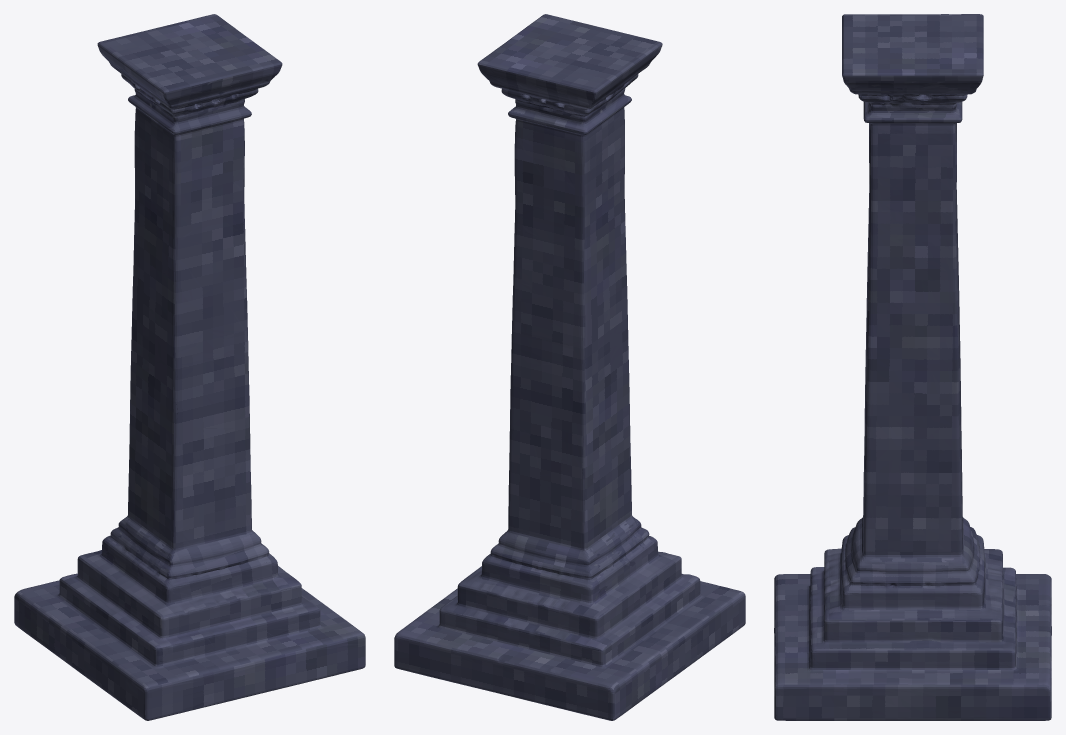
File: weathered-monolith-pillar-generated-2026-04-19T23-45-16-485Z.high.glb
The picture shows the model from 3 angles, left to right: view 1: azimuth 30°, elevation 25°; view 2: azimuth 150°, elevation 25°; view 3: azimuth 270°, elevation 25°; orthographic projection. The views are drawn at different scales.
Visible parts, largest first — view 1: temp_mesh.ply; view 2: temp_mesh.ply; view 3: temp_mesh.ply.
Part boxes in pixels (left/top/right/bottom): temp_mesh.ply: left=14, top=14, right=365, bottom=720; temp_mesh.ply: left=394, top=14, right=745, bottom=720; temp_mesh.ply: left=774, top=14, right=1051, bottom=720.
Bounding box in the file's own units: 0.7673 × 1.97 × 0.7983.
1 material, 1 textured.
